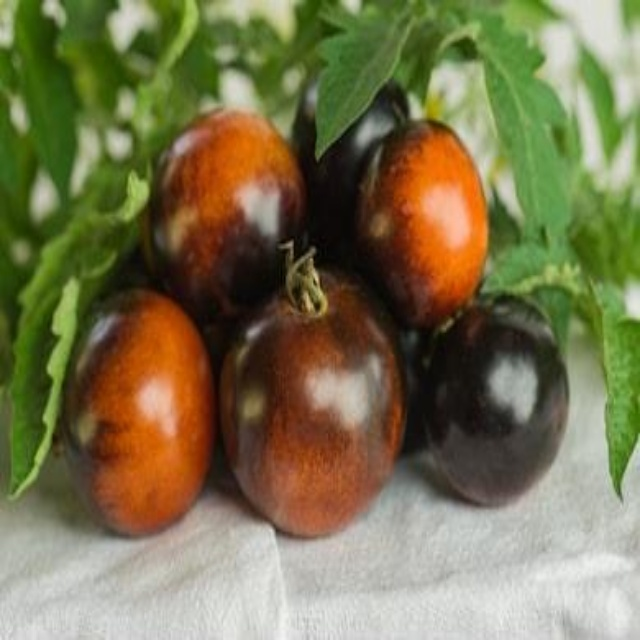tomato: (227, 277, 403, 544), (48, 273, 214, 544), (412, 293, 576, 505), (152, 116, 302, 312), (339, 131, 493, 318)
